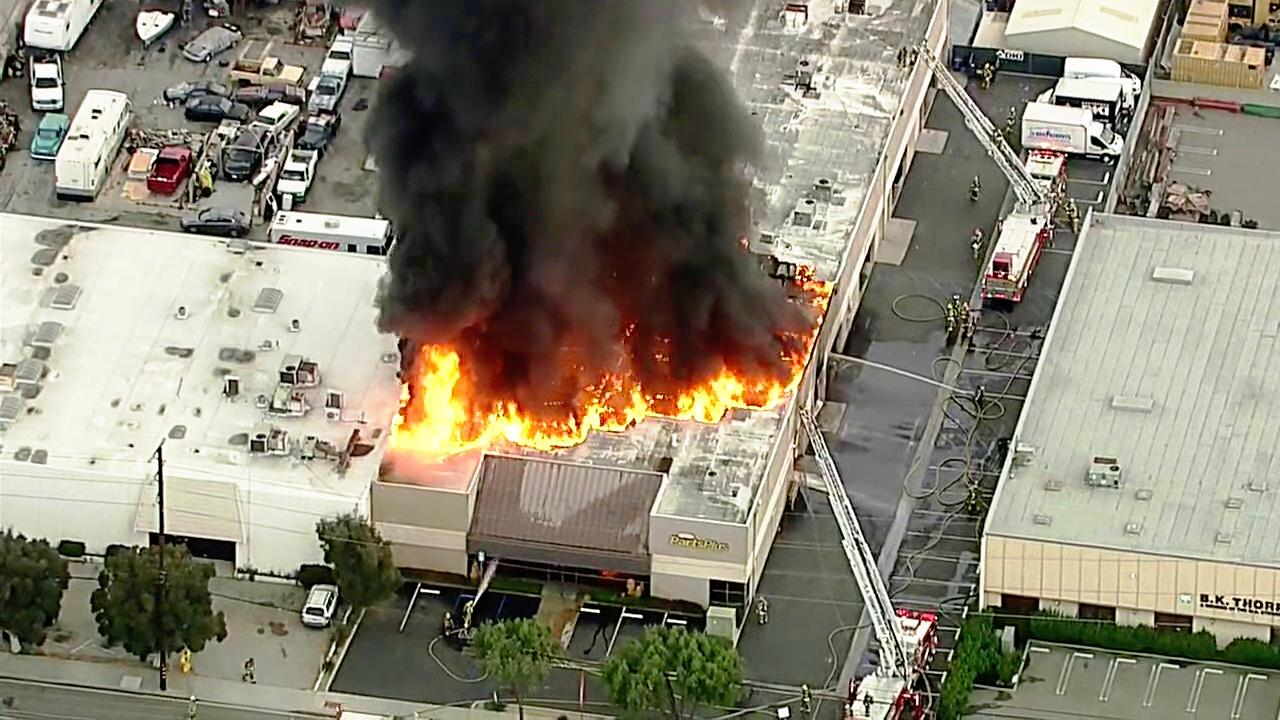fire: (630, 362, 754, 435), (392, 345, 467, 460), (473, 402, 597, 448)
smoke: (392, 0, 663, 335)
